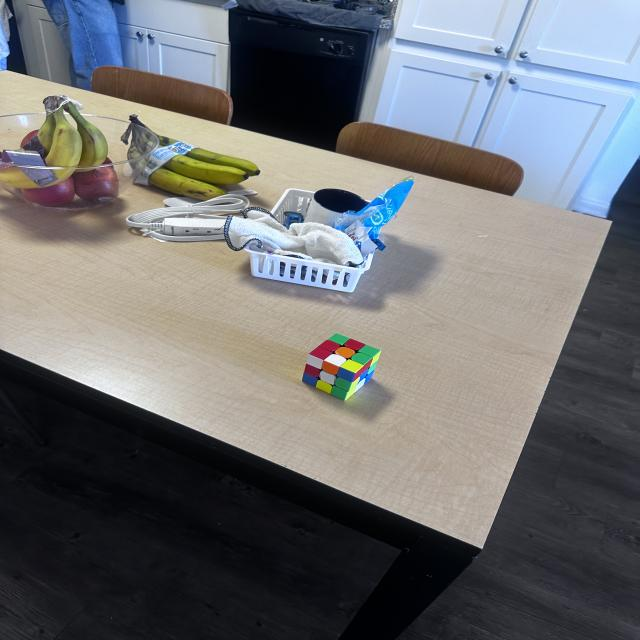sticker: (338, 359, 366, 382), (322, 354, 346, 375), (339, 382, 362, 402), (356, 345, 381, 360), (336, 376, 359, 392), (309, 346, 332, 362), (352, 352, 374, 367), (355, 359, 374, 376), (330, 385, 350, 401), (344, 338, 366, 351), (317, 340, 339, 353), (328, 333, 349, 346), (306, 354, 324, 369), (316, 379, 333, 394), (319, 370, 336, 385), (335, 347, 355, 359), (304, 363, 321, 377), (302, 372, 319, 386), (362, 366, 374, 384), (354, 376, 366, 393), (365, 364, 377, 379), (368, 356, 380, 370)
